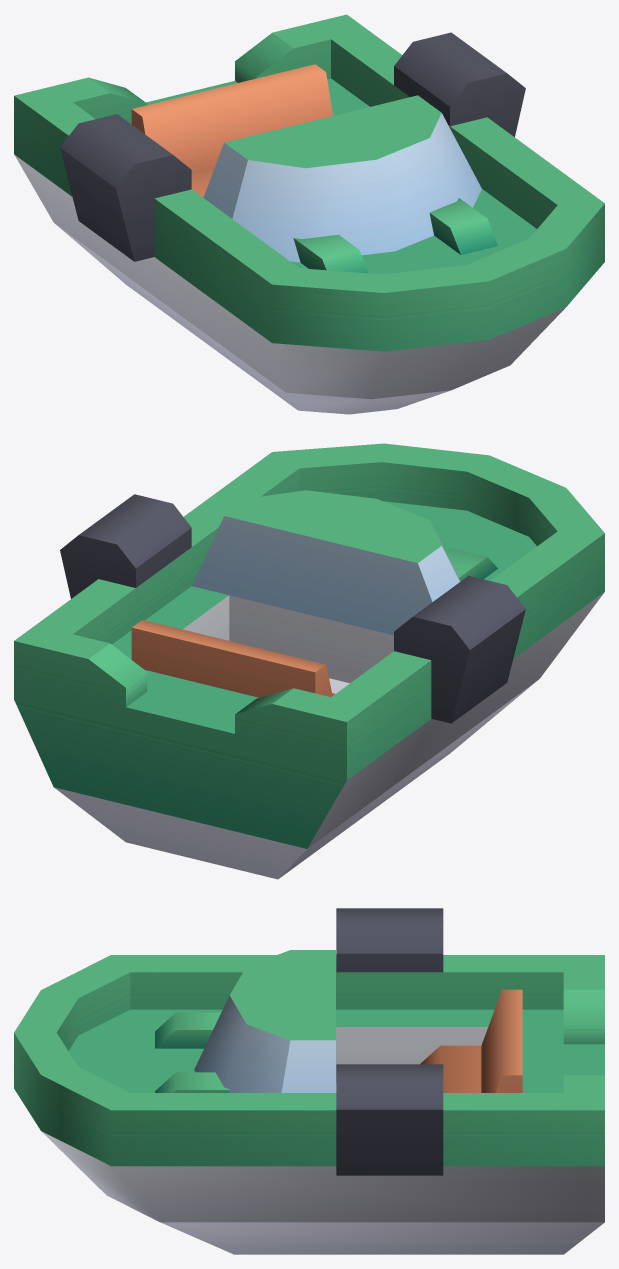
File: boat-speed-f.glb
The picture shows the model from 3 angles, top to bottom: view 1: azimuth 30°, elevation 25°; view 2: azimuth 150°, elevation 25°; view 3: azimuth 270°, elevation 25°; orthographic projection. The views are drawn at different scales.
Parts seen in each view (by area): view 1: boat-speed-f; view 2: boat-speed-f; view 3: boat-speed-f.
Part boxes in pixels (x1=…): boat-speed-f: x1=14, y1=14, x2=604, y2=414; boat-speed-f: x1=14, y1=443, x2=604, y2=879; boat-speed-f: x1=14, y1=908, x2=604, y2=1254.
Size of the model in its own units: 2.2 by 1.2 by 2.87.
Materials: 1 (1 with a texture image).
